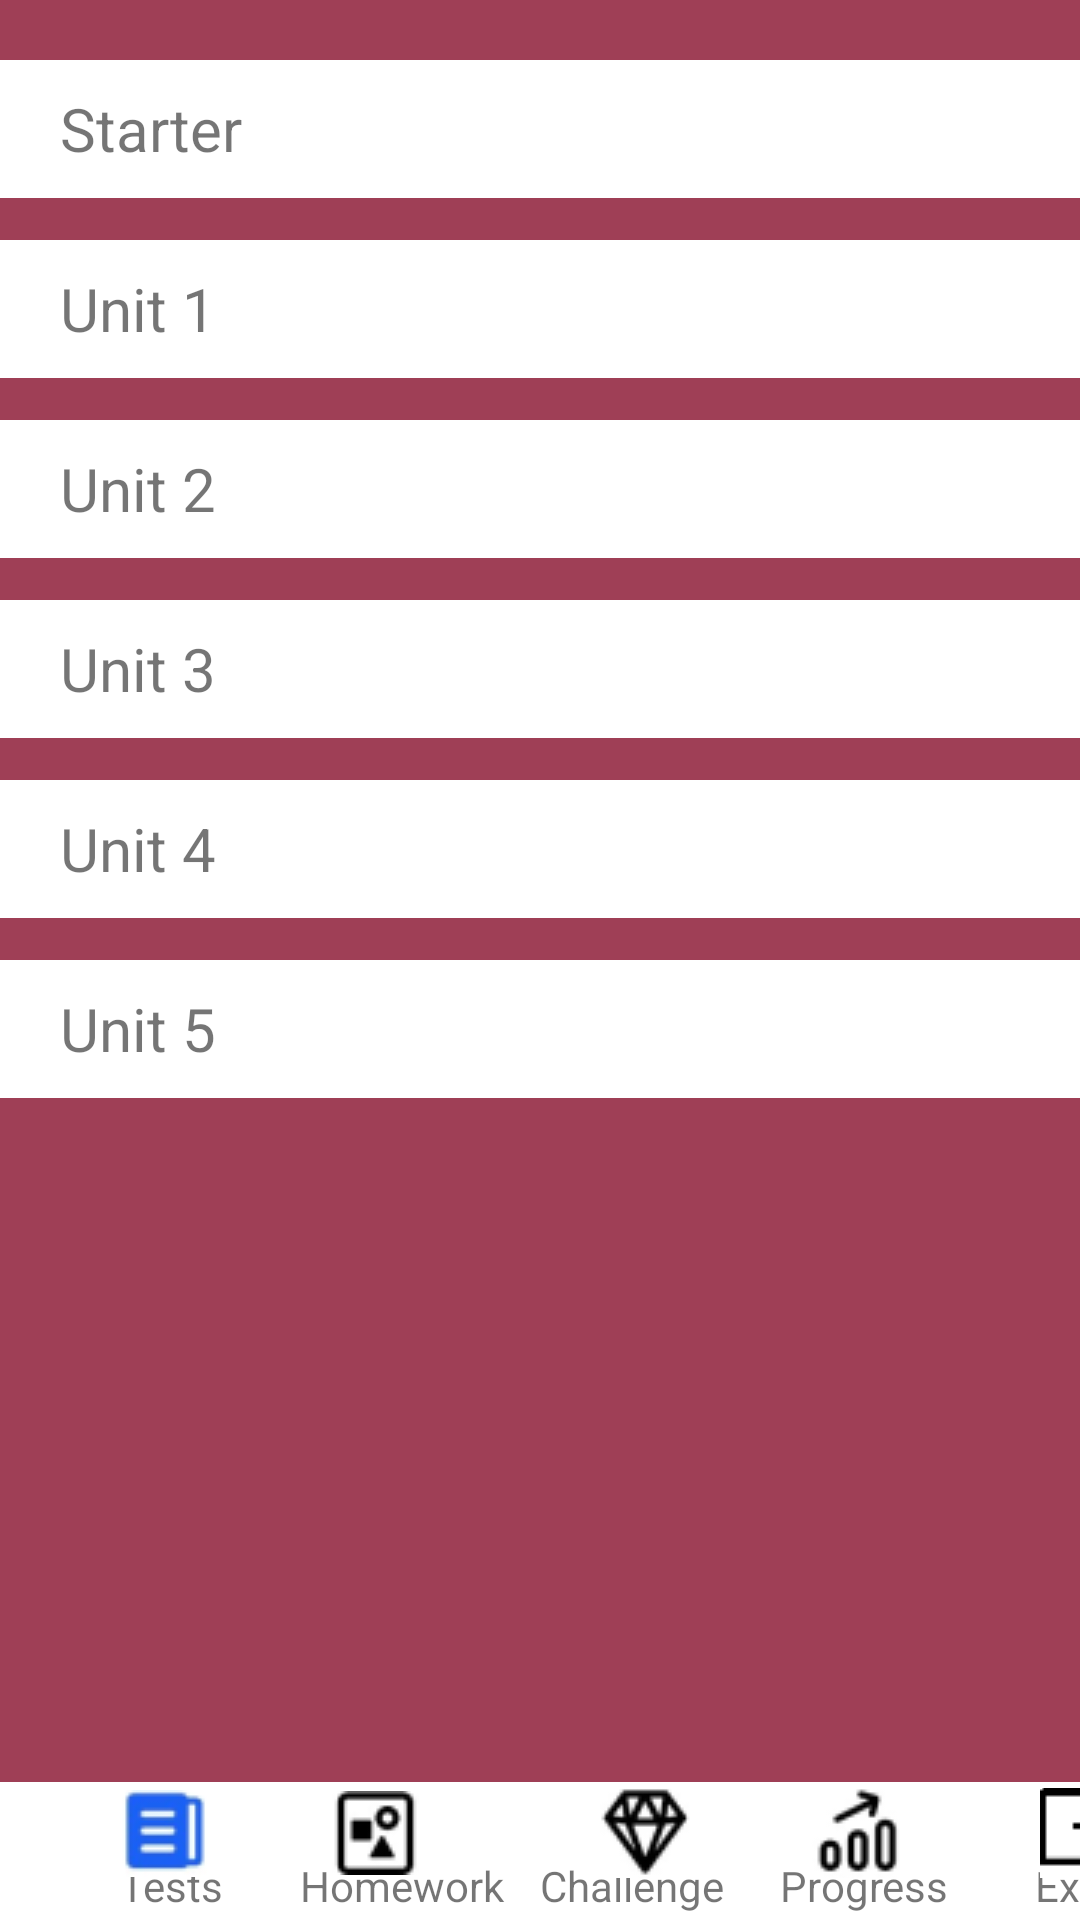

Icons on this 1080x1920 Android screen, each with its box as BBox(x1, y1, x2, y2):
diamond: BBox(602, 1789, 688, 1875)
